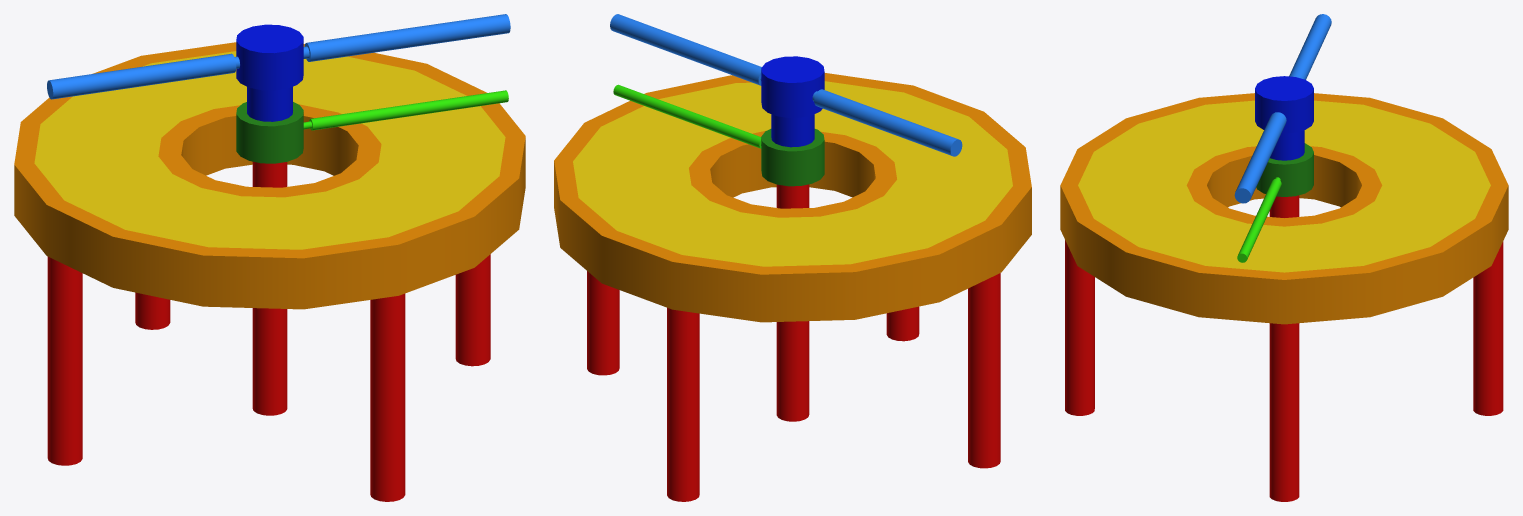
File: wheel of fear.fbx
3 renders of one model, left to right at view 1: azimuth 30°, elevation 25°; view 2: azimuth 150°, elevation 25°; view 3: azimuth 270°, elevation 25°, orthographic. The views are drawn at different scales.
Visible parts, largest first — view 1: WHEEL OF FEAR FLOOR, WHEEL OF FEAR TOP, WHEEL OF FEAR BOTTEM; view 2: WHEEL OF FEAR FLOOR, WHEEL OF FEAR TOP, WHEEL OF FEAR BOTTEM; view 3: WHEEL OF FEAR FLOOR, WHEEL OF FEAR TOP, WHEEL OF FEAR BOTTEM.
Part boxes in pixels (box(x1,y1,x2,y2)): WHEEL OF FEAR FLOOR: box(14, 42, 525, 501); WHEEL OF FEAR TOP: box(47, 14, 510, 121); WHEEL OF FEAR BOTTEM: box(236, 90, 508, 163); WHEEL OF FEAR FLOOR: box(554, 73, 1031, 501); WHEEL OF FEAR TOP: box(610, 14, 962, 156); WHEEL OF FEAR BOTTEM: box(613, 84, 824, 186); WHEEL OF FEAR FLOOR: box(1060, 93, 1508, 501); WHEEL OF FEAR TOP: box(1234, 14, 1331, 203); WHEEL OF FEAR BOTTEM: box(1237, 143, 1313, 262).
Bounding box in the file's own units: 10 × 7.9 × 10.
